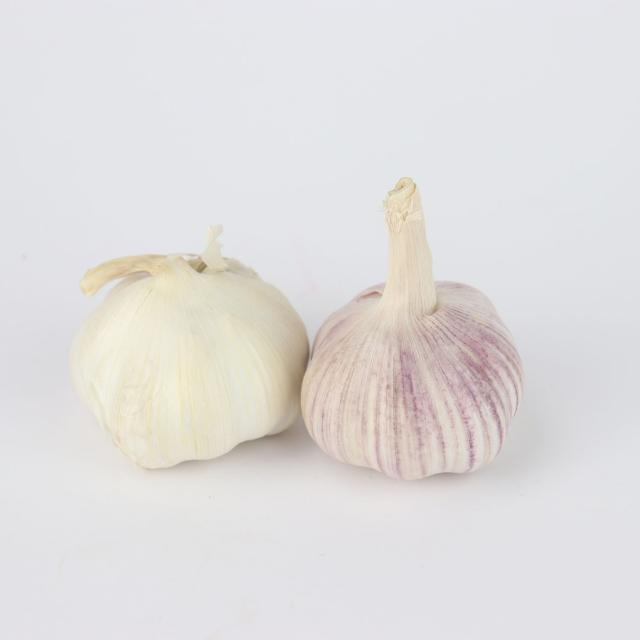garlic: (40, 233, 305, 483), (305, 243, 528, 484)
